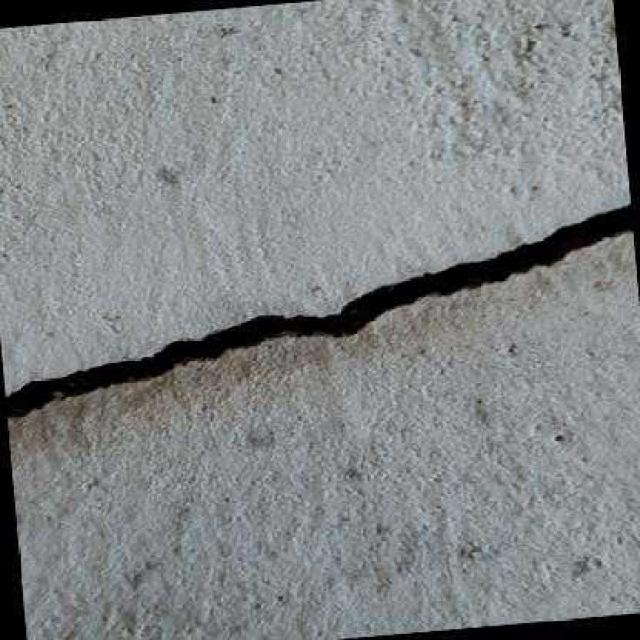D00: (5, 195, 634, 423)
